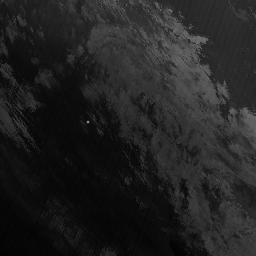Target: (85, 119, 89, 124)
